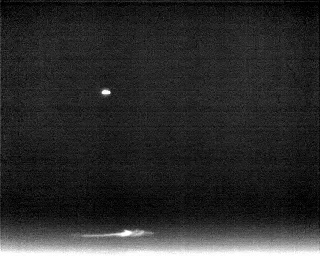AIRPLANE: (99, 86, 113, 98)
